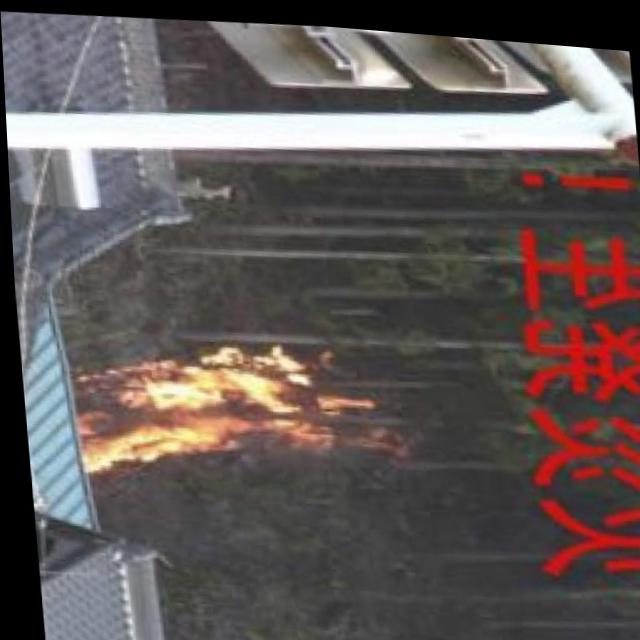Fire: (55, 324, 389, 480)
